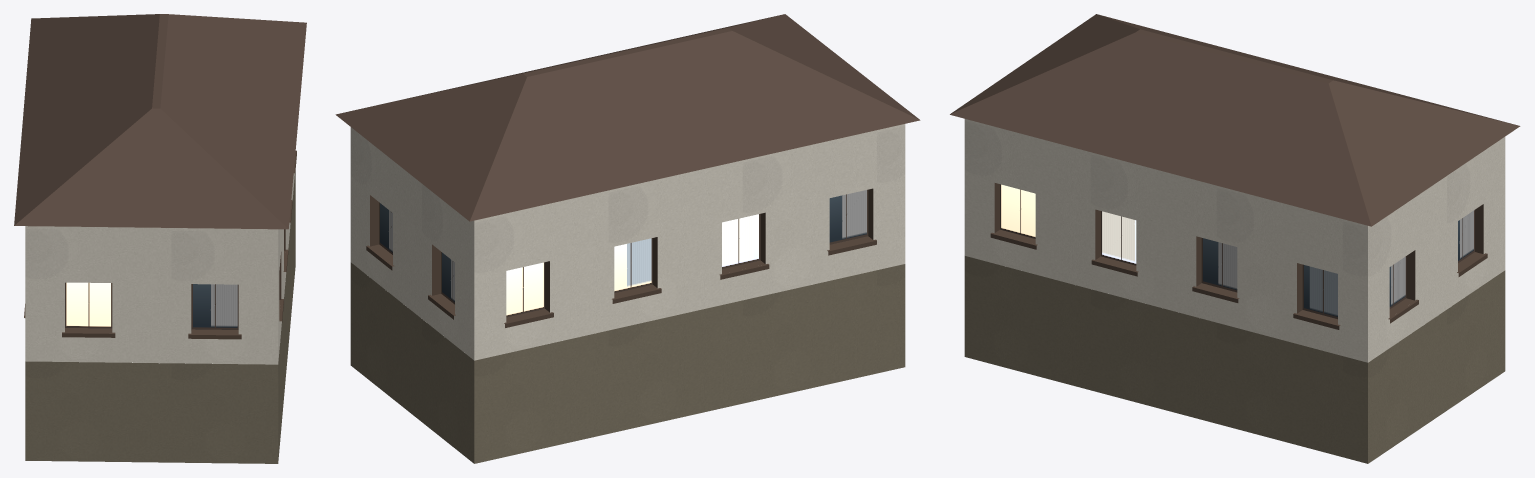
The model's file is z2b_josef_pavilion.glb.
3 views of the same model, side by side, from view 1: azimuth 30°, elevation 25°; view 2: azimuth 150°, elevation 25°; view 3: azimuth 270°, elevation 25° (orthographic). The views are drawn at different scales.
Parts seen in each view (by area): view 1: z2b_josef_pavilion; view 2: z2b_josef_pavilion; view 3: z2b_josef_pavilion.
Boxes of the visible parts, x1=… form: z2b_josef_pavilion: x1=14, y1=14, x2=306, y2=463; z2b_josef_pavilion: x1=335, y1=14, x2=920, y2=463; z2b_josef_pavilion: x1=950, y1=14, x2=1520, y2=463.
Bounding box in the file's own units: 13.53 × 9.13 × 15.35.
3 materials, 3 textured.
